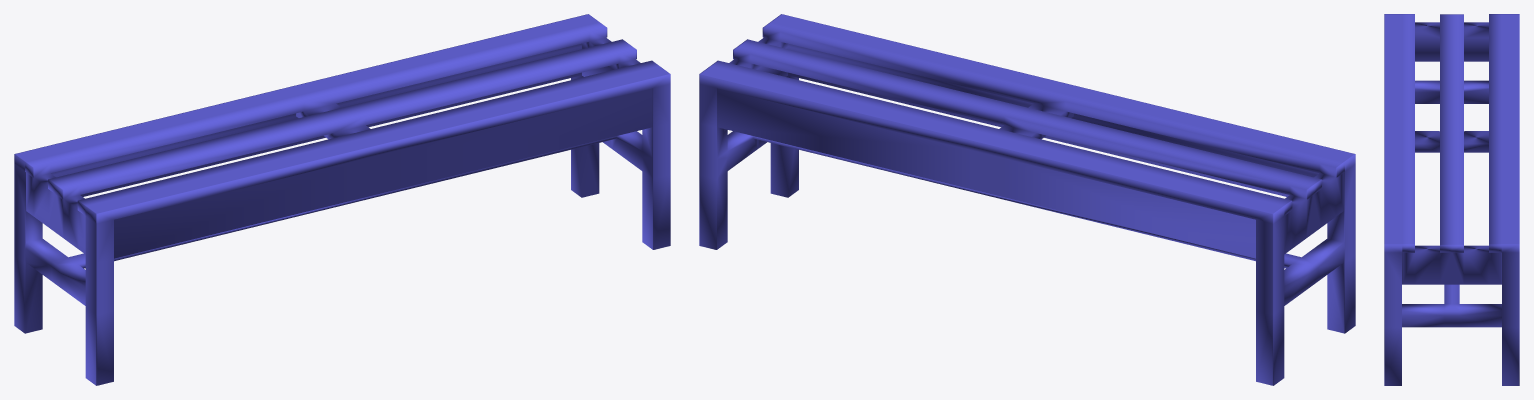
Rendered from Klupa.glb.
3 views of the same model, side by side, from view 1: azimuth 30°, elevation 25°; view 2: azimuth 150°, elevation 25°; view 3: azimuth 270°, elevation 25° (orthographic). The views are drawn at different scales.
Visible parts, largest first — view 1: Box004; view 2: Box004; view 3: Box004.
Boxes of the visible parts, bbox=[...] form: Box004: bbox=[14, 14, 670, 385]; Box004: bbox=[699, 14, 1355, 385]; Box004: bbox=[1384, 14, 1519, 385].
Bounding box in the file's own units: 152 × 43.47 × 37.72.
